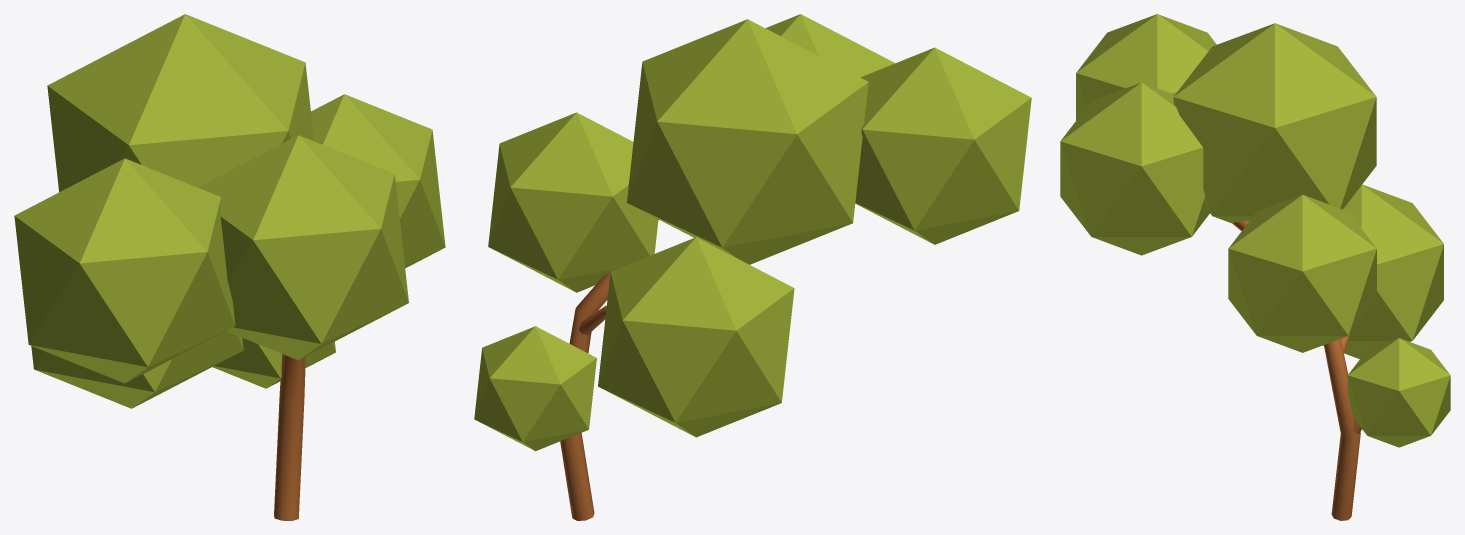
The model's file is cherryTreesVisual.glb.
The picture shows the model from 3 angles, left to right: view 1: azimuth 30°, elevation 25°; view 2: azimuth 150°, elevation 25°; view 3: azimuth 270°, elevation 25°; orthographic projection. The views are drawn at different scales.
Visible parts, largest first — view 1: treeLeaves.014, treeLeaves.018, treeLeaves.013, treeLeaves.015, treeLeaves.016, treeBody.015, treeLeaves.017; view 2: treeLeaves.013, treeLeaves.016, treeLeaves.014, treeLeaves.015, treeLeaves.017, treeBody.015, treeLeaves.018; view 3: treeLeaves.013, treeLeaves.018, treeLeaves.015, treeLeaves.016, treeLeaves.017, treeLeaves.014, treeBody.015.
Boxes of the visible parts, box(x1,y1,x2,y2) form: treeLeaves.014: box(14, 158, 235, 383); treeLeaves.018: box(198, 135, 408, 360); treeLeaves.013: box(47, 14, 313, 192); treeLeaves.015: box(311, 94, 445, 267); treeLeaves.016: box(31, 331, 243, 408); treeBody.015: box(274, 354, 305, 520); treeLeaves.017: box(212, 338, 335, 388); treeLeaves.013: box(626, 19, 868, 264); treeLeaves.016: box(598, 237, 794, 437); treeLeaves.014: box(855, 47, 1031, 244); treeLeaves.015: box(488, 112, 658, 292); treeLeaves.017: box(474, 326, 596, 451); treeBody.015: box(560, 219, 658, 520); treeLeaves.018: box(765, 14, 894, 77); treeLeaves.013: box(1173, 23, 1376, 223); treeLeaves.018: box(1060, 82, 1209, 255); treeLeaves.015: box(1228, 194, 1376, 352); treeLeaves.016: box(1323, 184, 1443, 359); treeLeaves.017: box(1347, 338, 1450, 447); treeLeaves.014: box(1076, 14, 1216, 120); treeBody.015: box(1233, 221, 1361, 520).
Size of the model in its own units: 6.07 by 6.66 by 5.36.
1 material, 1 textured.
